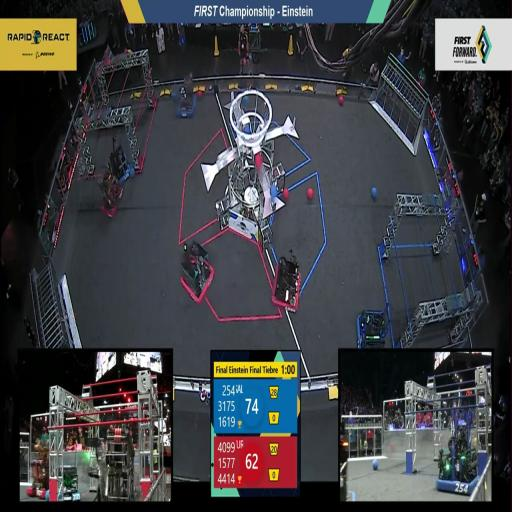robot: (435, 408, 480, 500), (94, 427, 138, 501), (180, 237, 214, 304), (272, 252, 303, 315), (354, 302, 391, 352), (26, 441, 55, 498), (104, 129, 131, 185), (97, 172, 125, 219), (54, 463, 84, 503), (173, 75, 197, 120)
